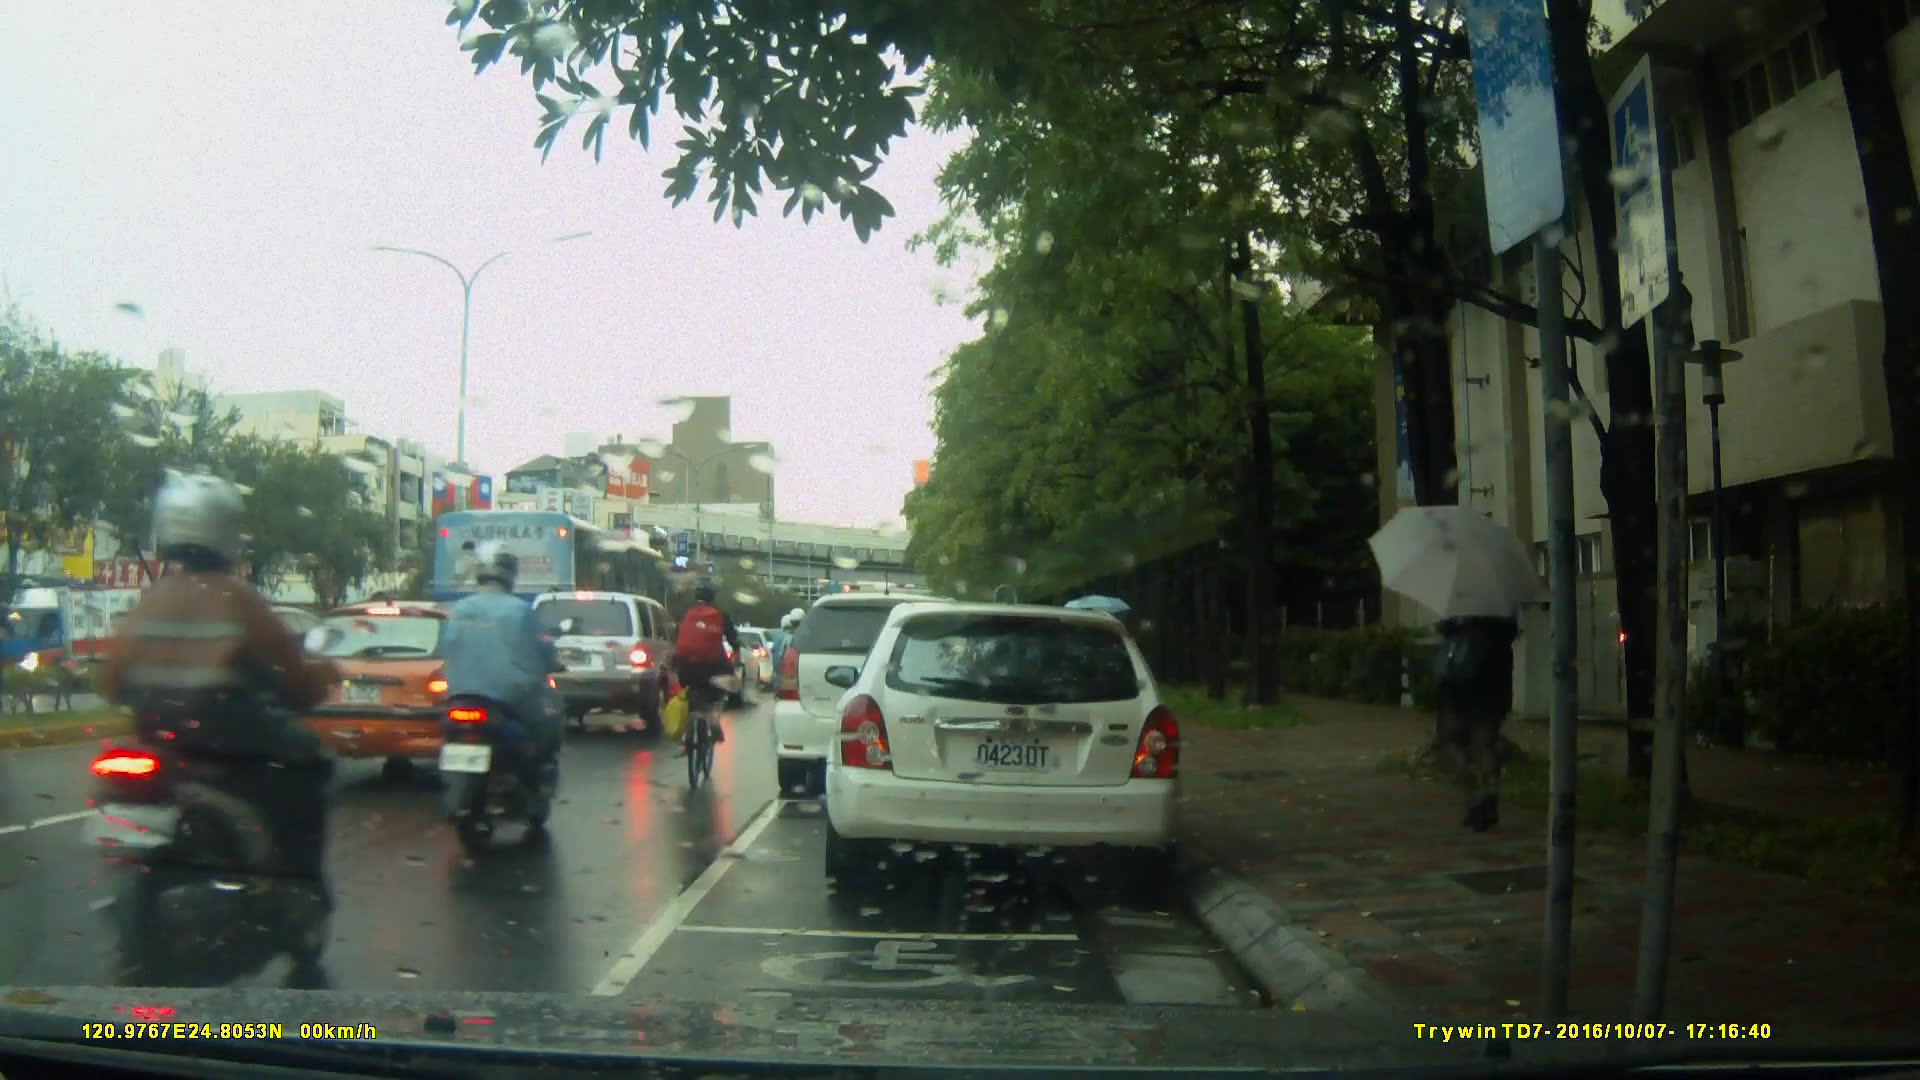pedestrian: (1423, 535, 1551, 843)
rider: (86, 477, 340, 1012), (431, 542, 563, 851), (661, 586, 747, 789)
vehicle: (835, 594, 1194, 898), (262, 598, 565, 796), (404, 498, 685, 690), (776, 590, 1026, 784), (106, 601, 366, 753), (504, 587, 699, 730), (1, 586, 157, 697)
